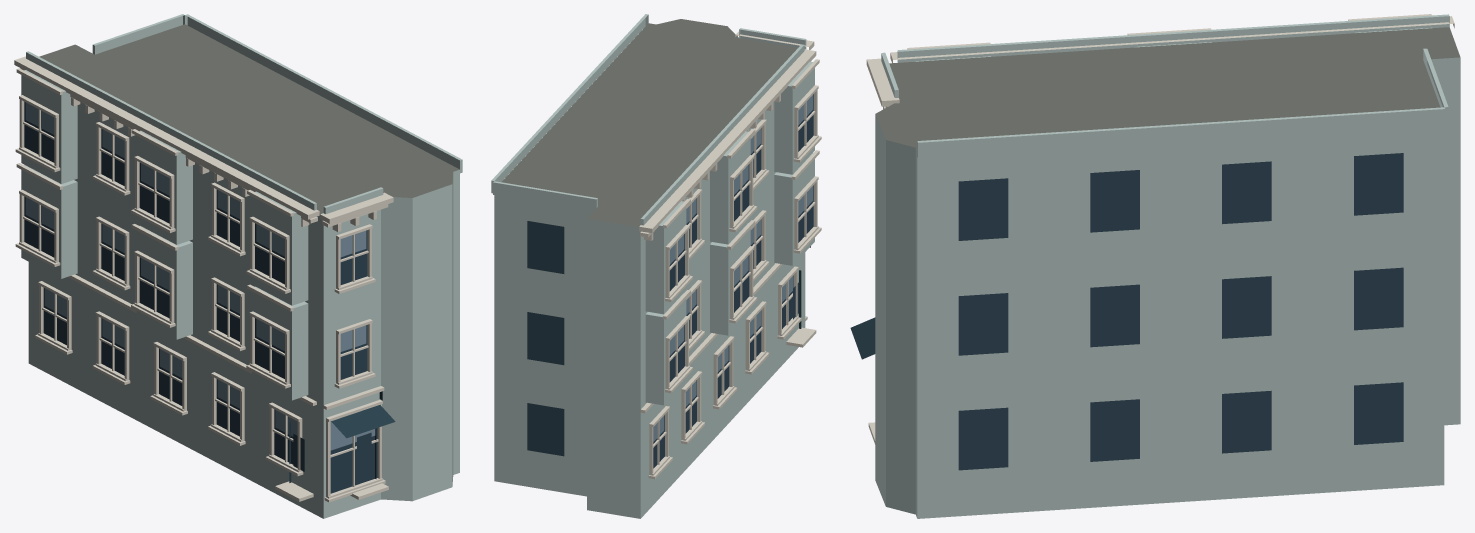
3 views of the same model, side by side, from view 1: azimuth 30°, elevation 25°; view 2: azimuth 150°, elevation 25°; view 3: azimuth 270°, elevation 25° (orthographic). The views are drawn at different scales.
Visible parts, largest first — view 1: Footprint 0 / surface 2, Cornices and window frames, Footprint 0 / surface 1, Facade bay volumes, Inset glazing, Sky reflection panels, Storefronts and doors; view 2: Footprint 0 / surface 2, Footprint 0 / surface 1, Facade bay volumes, Cornices and window frames, Inset glazing, Sky reflection panels; view 3: Footprint 0 / surface 2, Footprint 0 / surface 1, Inset glazing, Facade bay volumes, Cornices and window frames, Storefronts and doors.
Part boxes in pixels (x1,y1,x2,y2): Footprint 0 / surface 2: [28, 102, 459, 518]; Cornices and window frames: [14, 56, 393, 502]; Footprint 0 / surface 1: [39, 24, 459, 213]; Facade bay volumes: [21, 14, 462, 400]; Inset glazing: [24, 102, 377, 493]; Sky reflection panels: [25, 102, 375, 450]; Storefronts and doors: [289, 391, 395, 482]; Footprint 0 / surface 2: [494, 102, 805, 518]; Footprint 0 / surface 1: [501, 19, 797, 227]; Facade bay volumes: [491, 14, 814, 405]; Cornices and window frames: [639, 31, 821, 479]; Inset glazing: [527, 94, 813, 468]; Sky reflection panels: [653, 95, 812, 441]; Footprint 0 / surface 2: [875, 57, 1460, 518]; Footprint 0 / surface 1: [875, 27, 1460, 151]; Inset glazing: [958, 153, 1403, 470]; Facade bay volumes: [881, 14, 1449, 158]; Cornices and window frames: [866, 14, 1454, 444]; Storefronts and doors: [850, 317, 875, 359].
Size of the model in its own units: 9.57 by 12.05 by 17.63.
